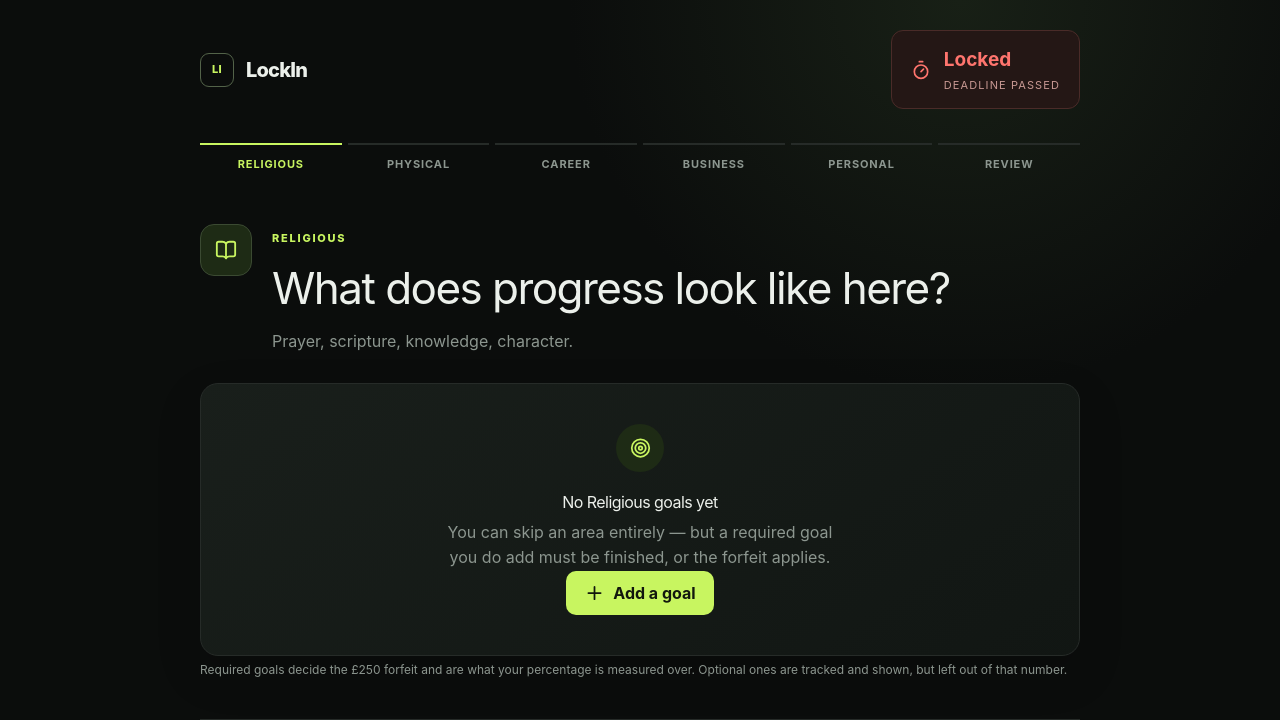
Test: goal wizard › explains tracking methods when the info button is pressed
The width and height of the screenshot is (1280, 720).
Click the button "Add a goal" at (640, 593), box [566,571,714,615]
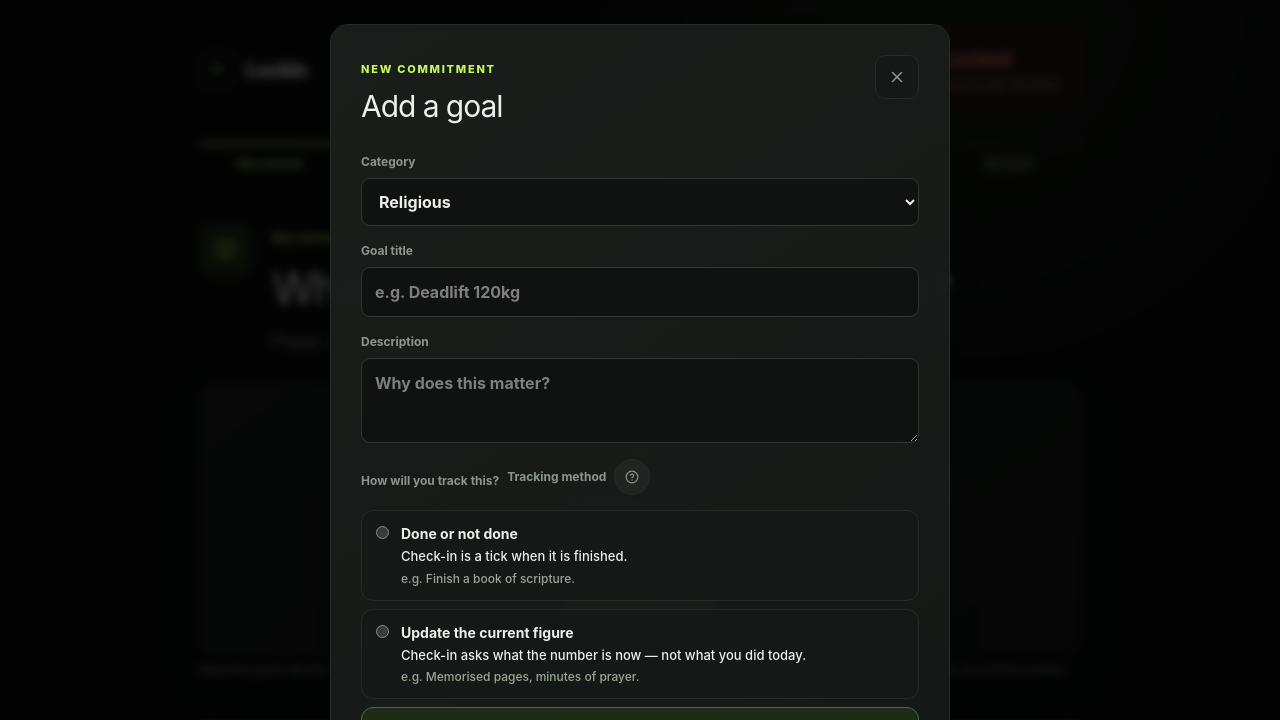
expect the text "what check-in will ask" is not shown: met
Click the button named "What do these tracking options mean?" at (632, 477), box [614,459,650,495]
(page scrolled)
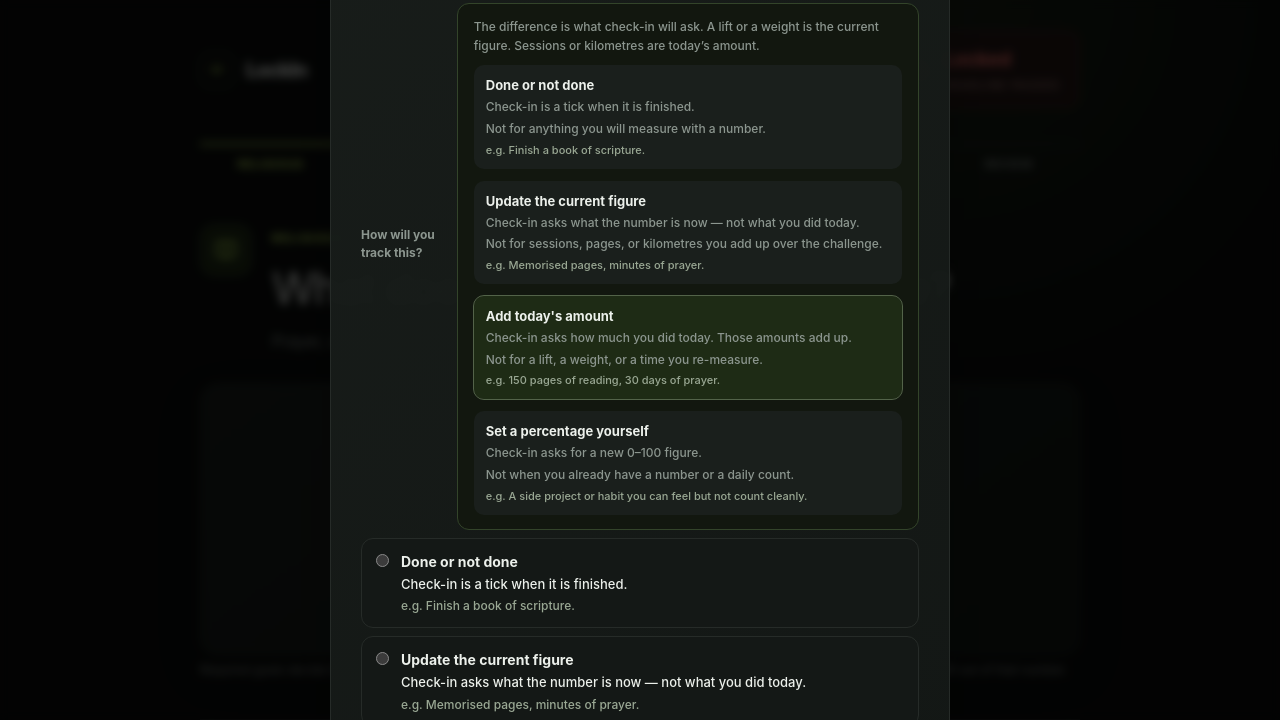
expect the text "what check-in will ask" is shown: met, box [474,19,879,53]
expect the text "Not for a lift, a weight, or a time you re-measure." is shown: met, box [486,352,763,367]
